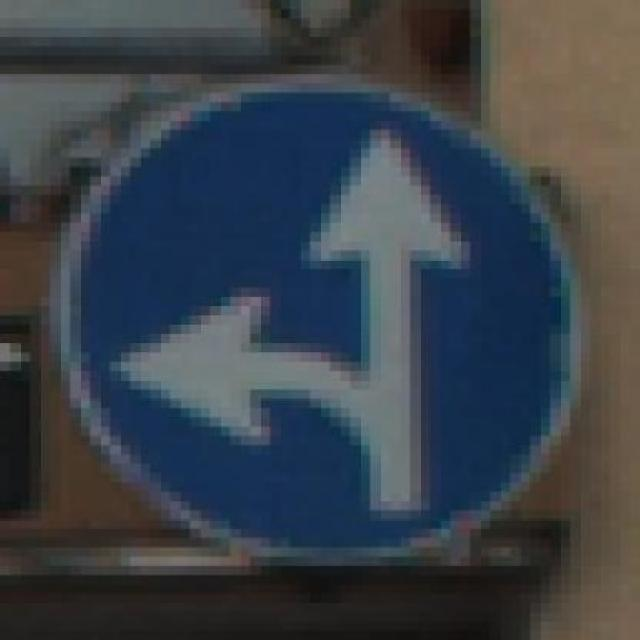Go straight or turn left: (60, 83, 620, 575)
